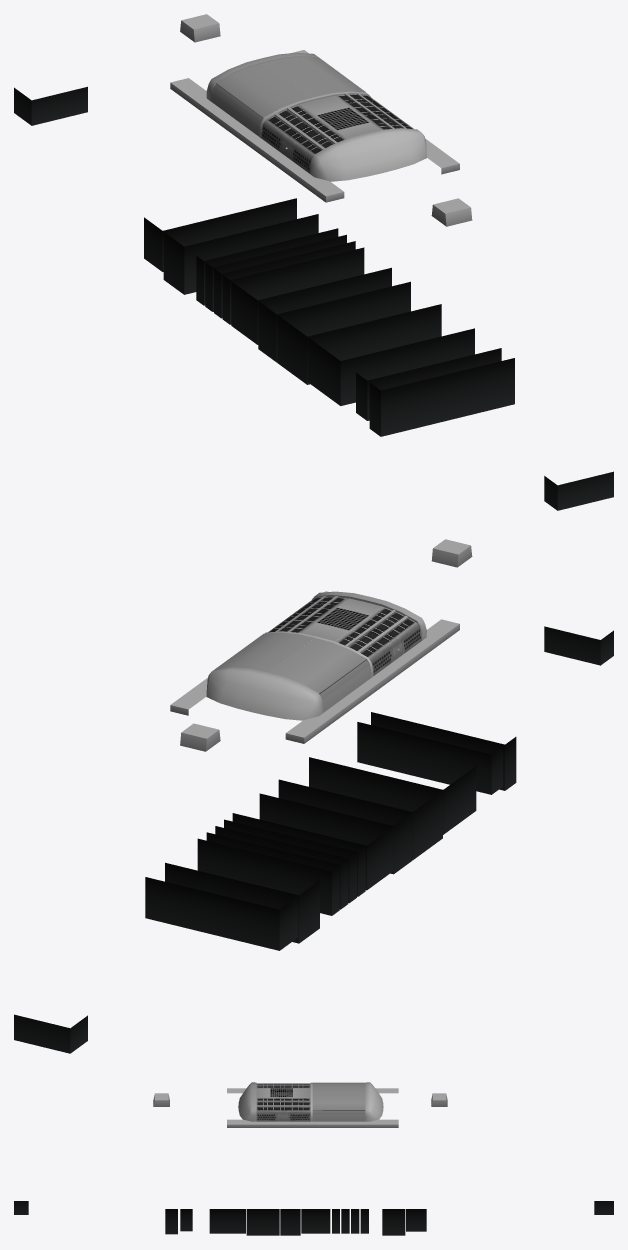
File: KQ_N_PANTA.glb
The picture shows the model from 3 angles, top to bottom: view 1: azimuth 30°, elevation 25°; view 2: azimuth 150°, elevation 25°; view 3: azimuth 270°, elevation 25°; orthographic projection. The views are drawn at different scales.
Parts seen in each view (by area): view 1: obj15; view 2: obj15; view 3: obj15.
Part boxes in pixels (x1,y1,x2,y2): obj15: (14, 14, 613, 510); obj15: (14, 539, 613, 1053); obj15: (14, 1082, 613, 1235).
Bounding box in the file's own units: 5.26 × 8.52 × 36.76.
Materials: 7 (7 with a texture image).
